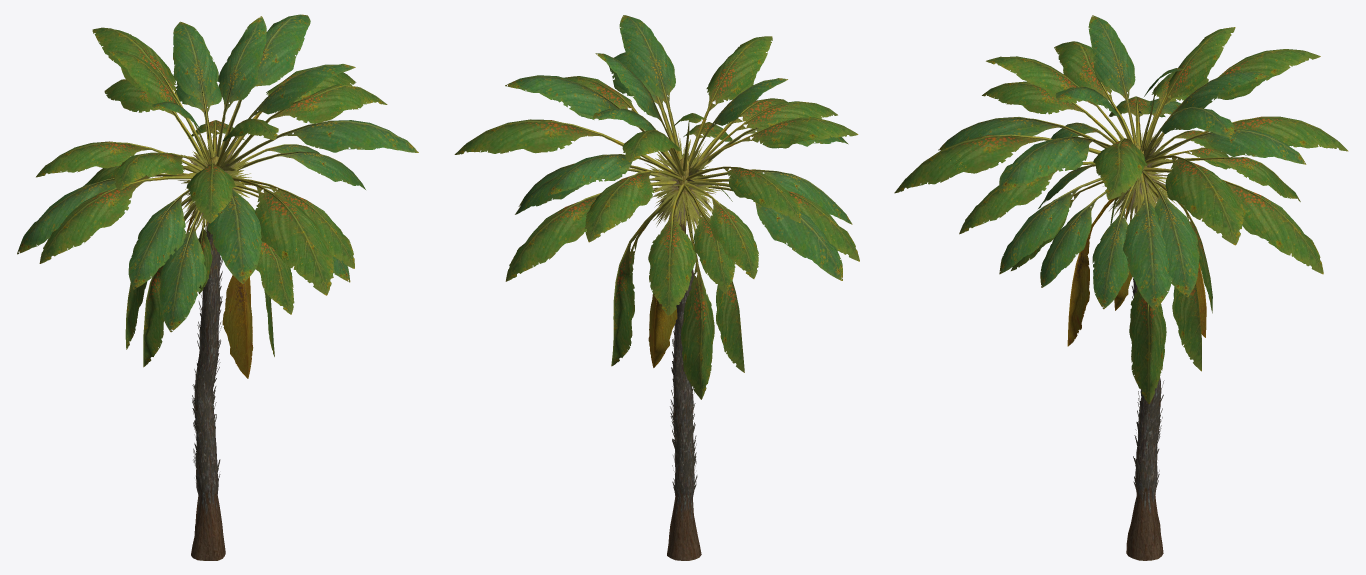
The model's file is Tree - Alien Tree 08-Dng0TvKF.glb.
The picture shows the model from 3 angles, left to right: view 1: azimuth 30°, elevation 25°; view 2: azimuth 150°, elevation 25°; view 3: azimuth 270°, elevation 25°; orthographic projection. The views are drawn at different scales.
Parts seen in each view (by area): view 1: Tree_07_1(Clone); view 2: Tree_07_1(Clone); view 3: Tree_07_1(Clone).
Boxes of the visible parts, x1=… form: Tree_07_1(Clone): x1=17, y1=14, x2=418, y2=560; Tree_07_1(Clone): x1=454, y1=15, x2=859, y2=560; Tree_07_1(Clone): x1=894, y1=15, x2=1348, y2=560.
Size of the model in its own units: 7.31 by 9.52 by 7.63.
2 materials, 2 textured.
